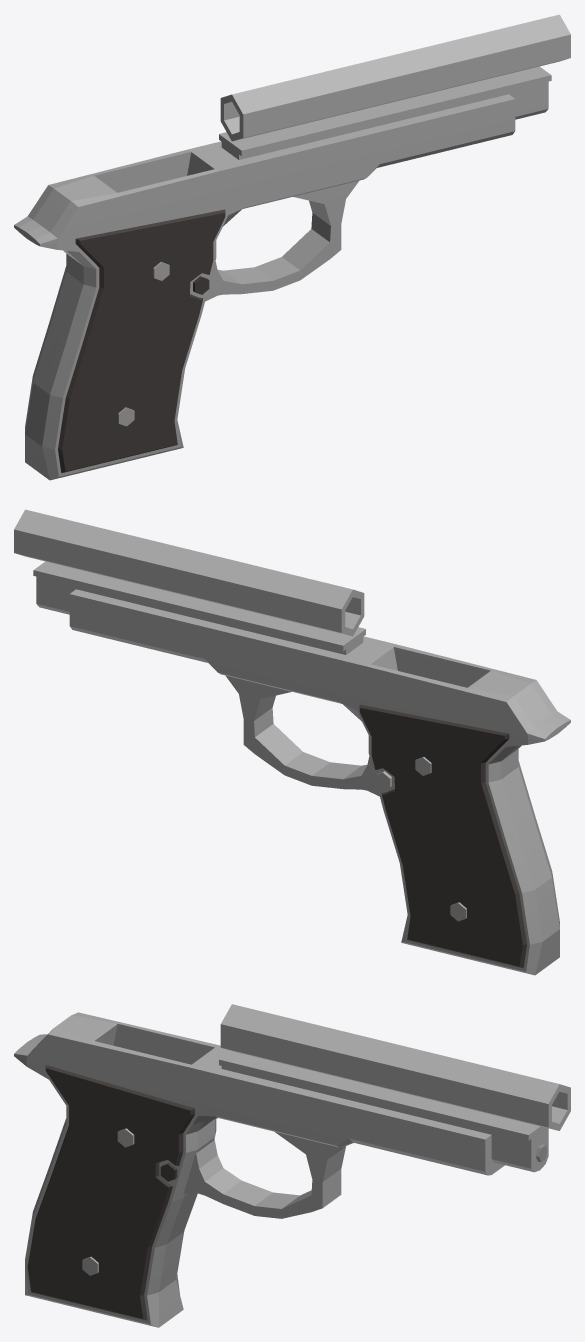
The model's file is Pistol1_03.fbx.
3 renders of one model, top to bottom at view 1: azimuth 30°, elevation 25°; view 2: azimuth 150°, elevation 25°; view 3: azimuth 330°, elevation 25°, orthographic.
Parts seen in each view (by area): view 1: Pistol1_03; view 2: Pistol1_03; view 3: Pistol1_03.
Boxes of the visible parts, x1,y1,x2,y2 form: Pistol1_03: (14, 14, 570, 480); Pistol1_03: (14, 509, 570, 975); Pistol1_03: (14, 1004, 570, 1327).
Size of the model in its own units: 0.259 by 0.1531 by 0.031.
